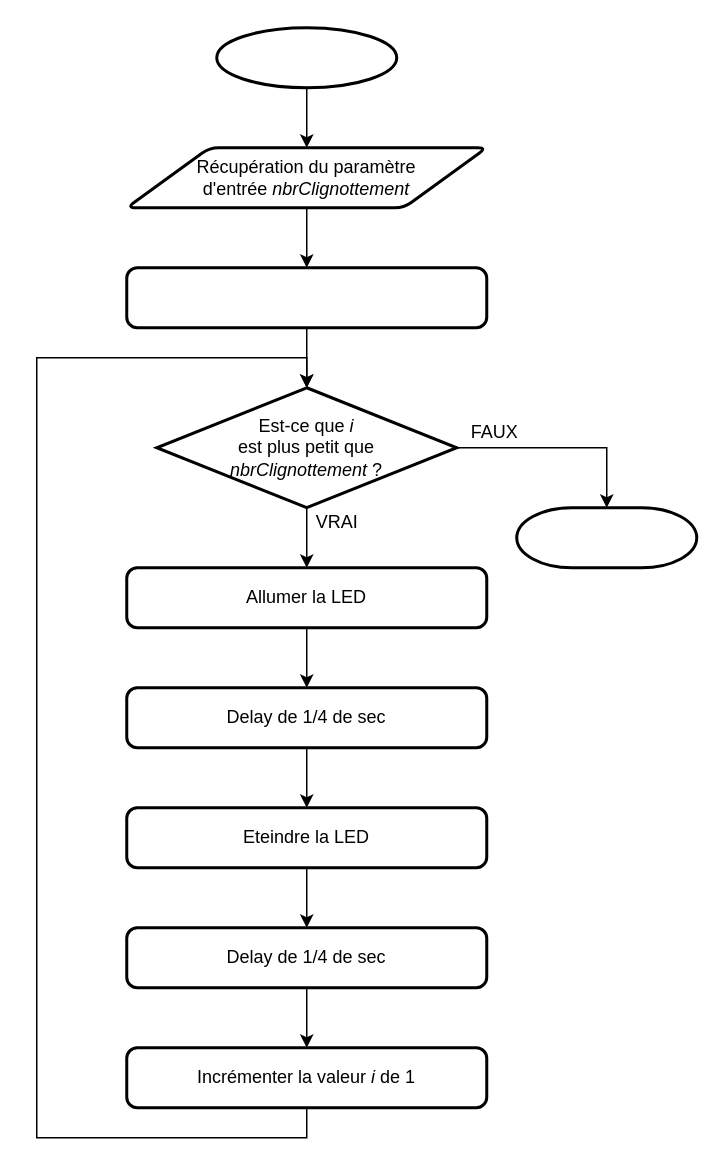
The diagram is 725 pixels wide and 1176 high, and some of its shapes have lost their labels. The box of each missing label's shape, as (x1, y1, x2, y2) in pixels:
DEBUT de clignotteLED: (214, 26, 398, 88)
FIN de clignotteLED: (514, 506, 698, 568)
Initialisation de i avec la valeur 0: (124, 266, 488, 328)
